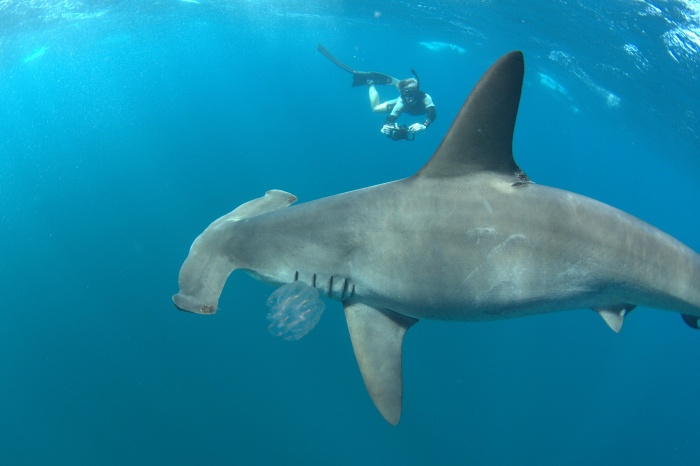Hammer: (105, 26, 700, 417)
